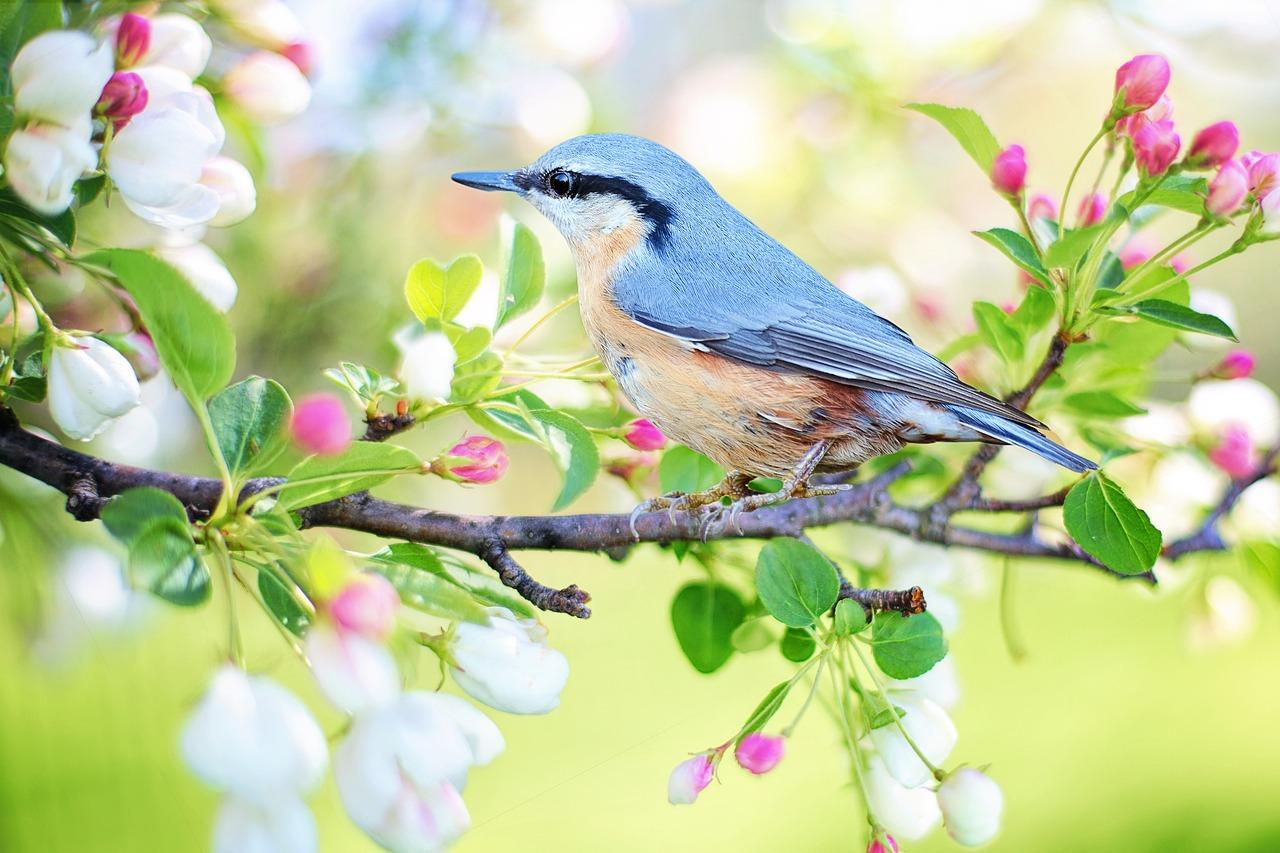bird: (452, 135, 1094, 506)
